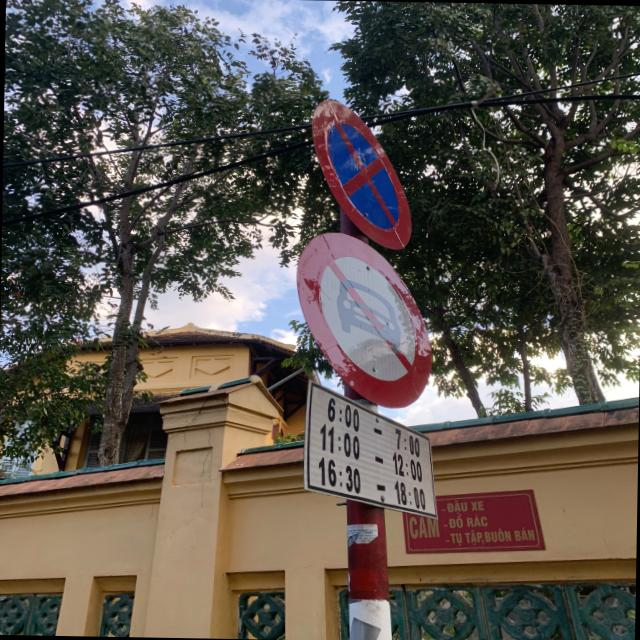Cam_Dung_Va_Dau_Xe: (310, 99, 416, 246)
Cam_O_To: (292, 230, 438, 408)
